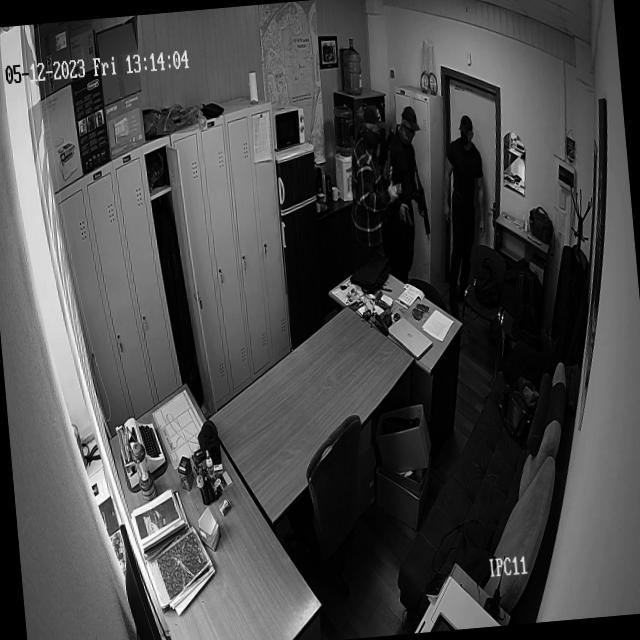gun: (413, 166, 432, 242), (404, 206, 414, 230)
person: (436, 116, 490, 287), (346, 106, 394, 256)
person with a gun: (386, 106, 427, 270)
